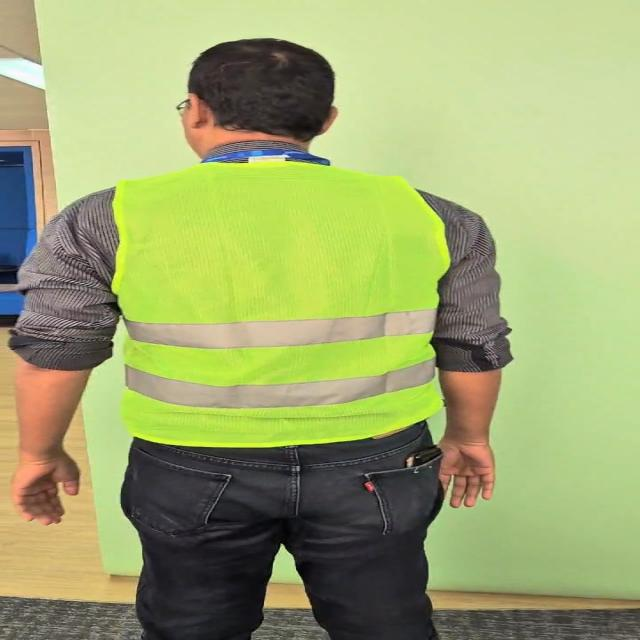safety_vest: (107, 162, 450, 446)
